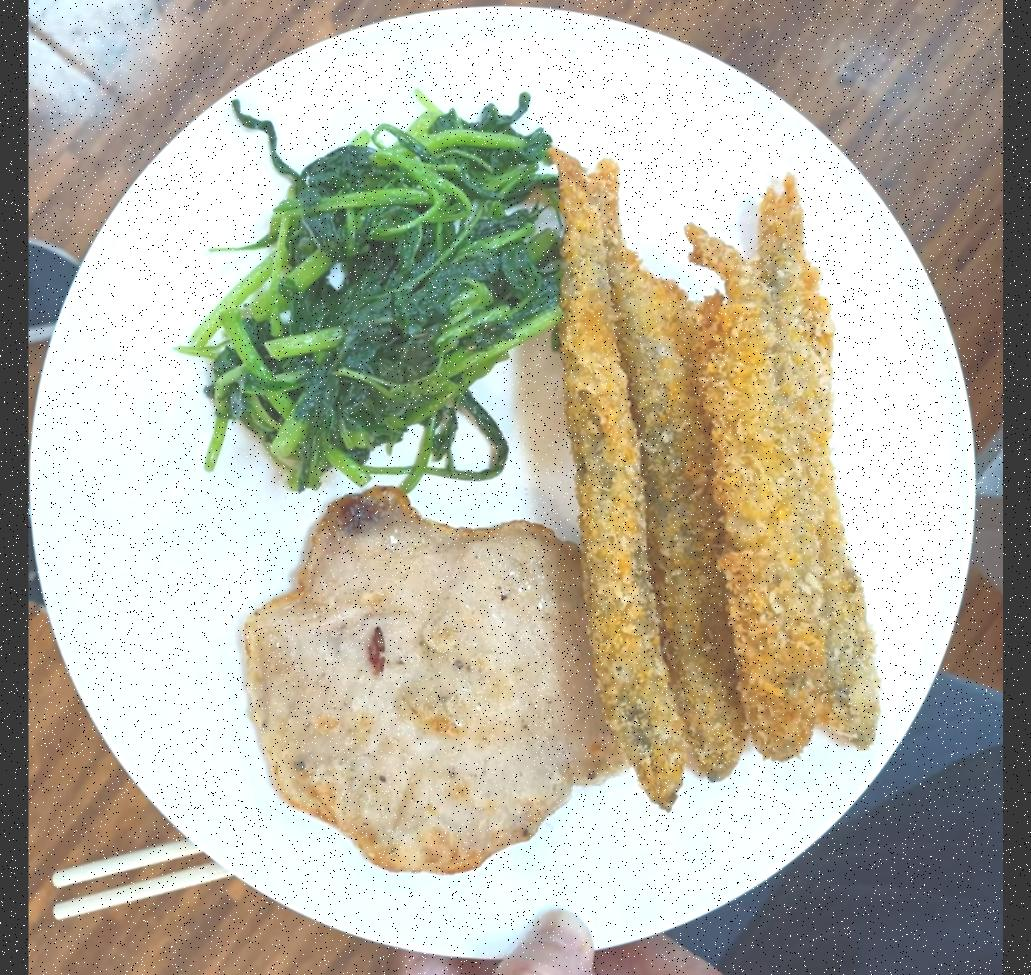fried shishamo: (569, 166, 887, 809)
grilled chicken steak: (249, 494, 596, 878)
plate: (38, 5, 985, 972)
side dish: (200, 87, 568, 505)
